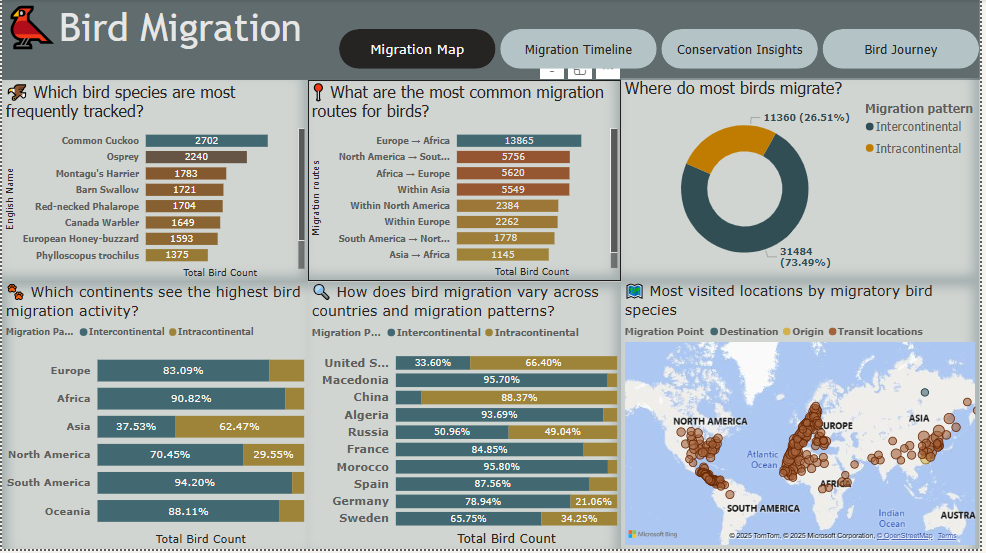

This screenshot's page, from the dashboard's own definition file:
{"tool":"powerbi","page":{"name":"Migration Map","canvas":[1280,720],"ordinal":0},"visuals":[{"type":"textbox","title":"🐦Bird Migration","box":[0,0,1280,105.8],"z":0},{"type":"donutChart","title":"Where do most birds migrate?","fields":{"Category":["Bird migration dataset2.Mirgration_pattern"],"Y":["CountNonNull(Bird migration dataset2.ID)"]},"box":[810.7,103.2,469.3,265.6],"z":1000},{"type":"clusteredBarChart","title":"🦅 Which bird species are most frequently tracked?","fields":{"Category":["Bird migration dataset2.English Name"],"Y":["CountNonNull(Bird migration dataset2.ID)"]},"box":[0,106,400.6,264.4],"z":2000},{"type":"clusteredBarChart","title":"📍 What are the most common migration routes for birds?","fields":{"Y":["CountNonNull(Bird migration dataset2.ID)"],"Category":["Bird migration dataset2.Migration routes"]},"box":[400.6,106,409.7,263.1],"z":3000},{"type":"hundredPercentStackedBarChart","title":"🔍 How does bird migration vary across countries and migration patterns?","fields":{"Category":["Bird migration dataset2.Countries"],"Y":["CountNonNull(Bird migration dataset2.ID)"],"Series":["Bird migration dataset2.Mirgration_pattern"]},"box":[400.6,370.5,409.7,349.5],"z":4000},{"type":"hundredPercentStackedBarChart","title":"🐾 Which continents see the highest bird migration activity?","fields":{"Category":["Bird migration dataset2.Continent"],"Y":["CountNonNull(Bird migration dataset2.ID)"],"Series":["Bird migration dataset2.Mirgration_pattern"]},"box":[0,370.5,400.6,349.5],"z":5000},{"type":"map","title":"🗺️ Most visited locations by migratory bird species","fields":{"Y":["Bird migration dataset2.GPS_yy"],"X":["Bird migration dataset2.GPS_xx"],"Series":["Bird migration dataset2.Migration nodes"],"Size":["CountNonNull(Bird migration dataset2.ID)"]},"box":[810.7,368.9,469.3,351],"z":6000},{"type":"pageNavigator","box":[385,52.9,894.9,52.9],"z":7000}]}

Visuals, with their boxes in screenshot pixels (x1, y1, x2, y2), scaled from the page's 1280x720 canvas onto the 986x553 screenshot:
"🐦Bird Migration" textbox: bbox=[0, 0, 985, 81]
"Where do most birds migrate?" donutChart: bbox=[624, 79, 985, 283]
"🦅 Which bird species are most frequently tracked?" clusteredBarChart: bbox=[0, 81, 309, 284]
"📍 What are the most common migration routes for birds?" clusteredBarChart: bbox=[309, 81, 624, 283]
"🔍 How does bird migration vary across countries and migration patterns?" hundredPercentStackedBarChart: bbox=[309, 285, 624, 552]
"🐾 Which continents see the highest bird migration activity?" hundredPercentStackedBarChart: bbox=[0, 285, 309, 552]
"🗺️ Most visited locations by migratory bird species" map: bbox=[624, 283, 985, 552]
pageNavigator: bbox=[297, 41, 985, 81]
